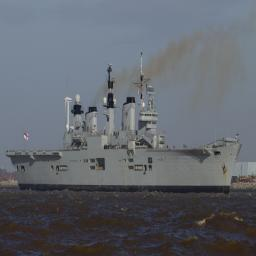Portanaves: (8, 47, 244, 200)
